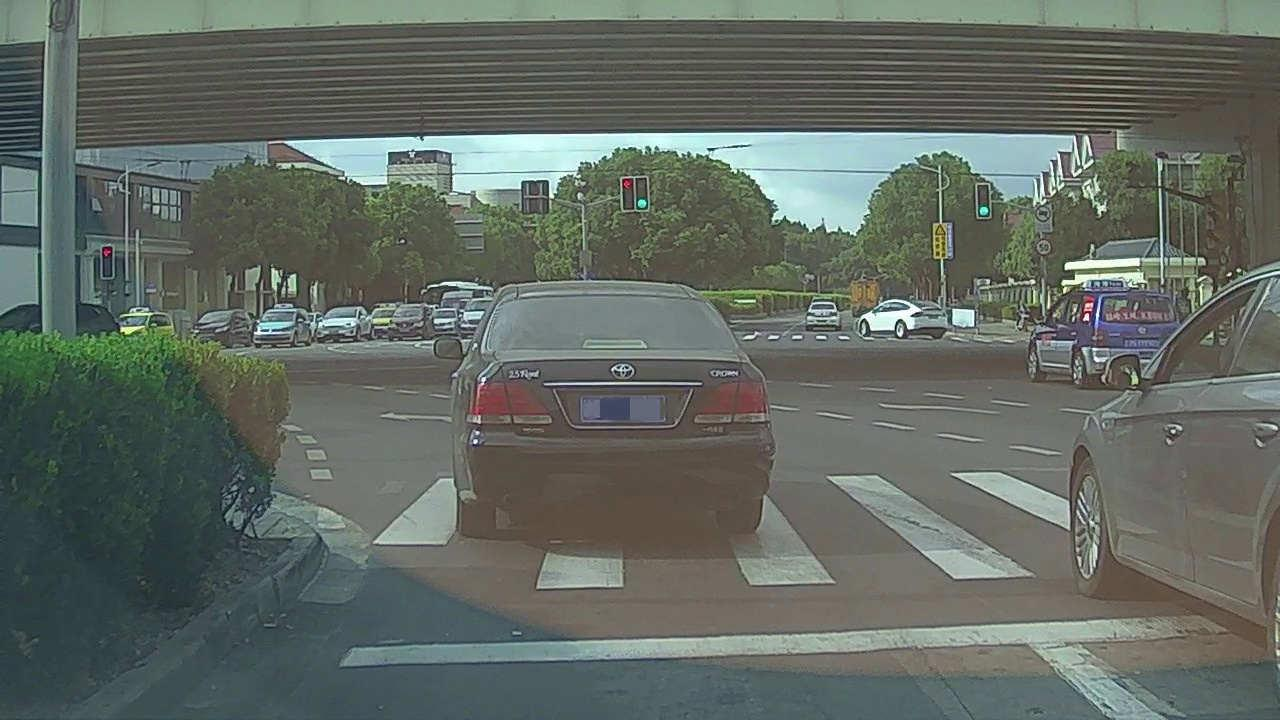traffic_light: (977, 183, 992, 219), (635, 175, 647, 213), (623, 176, 634, 212), (102, 244, 113, 278)
